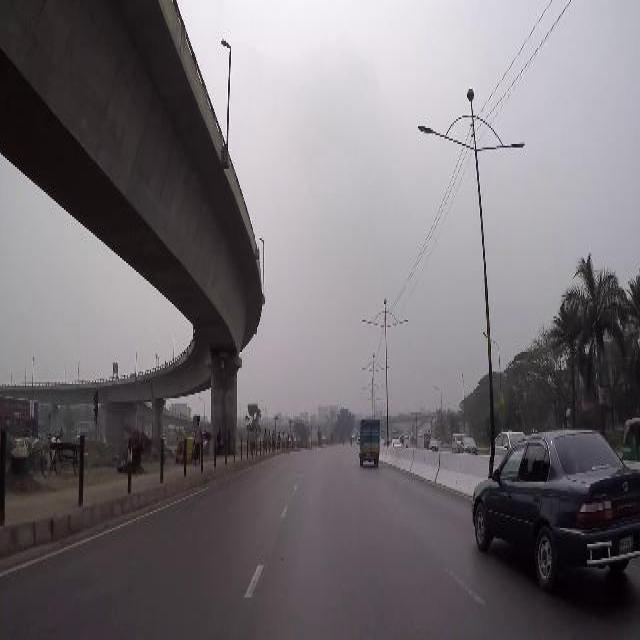11: (358, 418, 380, 468)
19: (450, 431, 466, 451)
5: (468, 428, 640, 590), (489, 430, 525, 452), (459, 435, 477, 454)
Truck: (423, 428, 431, 446)
